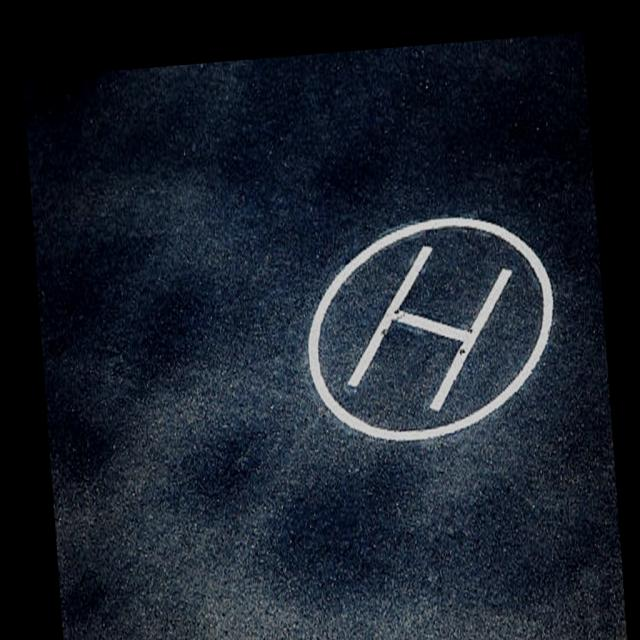helipad: (300, 210, 558, 448)
